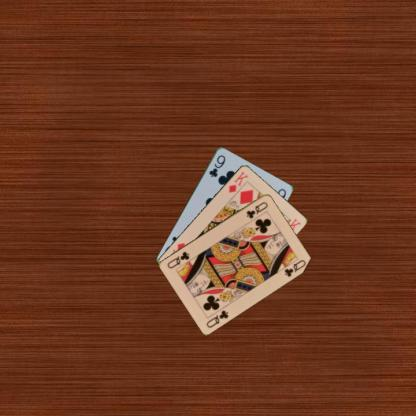9c: (206, 152, 226, 178)
Kd: (226, 168, 250, 194)
Qc: (204, 307, 230, 329), (244, 198, 269, 219)
